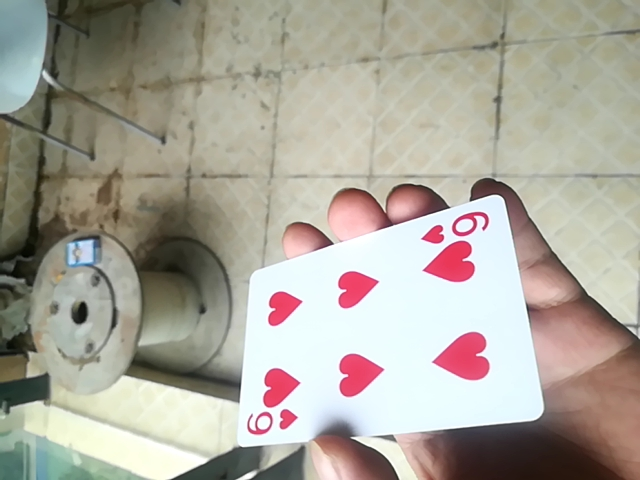hx 6: (228, 191, 538, 454)
